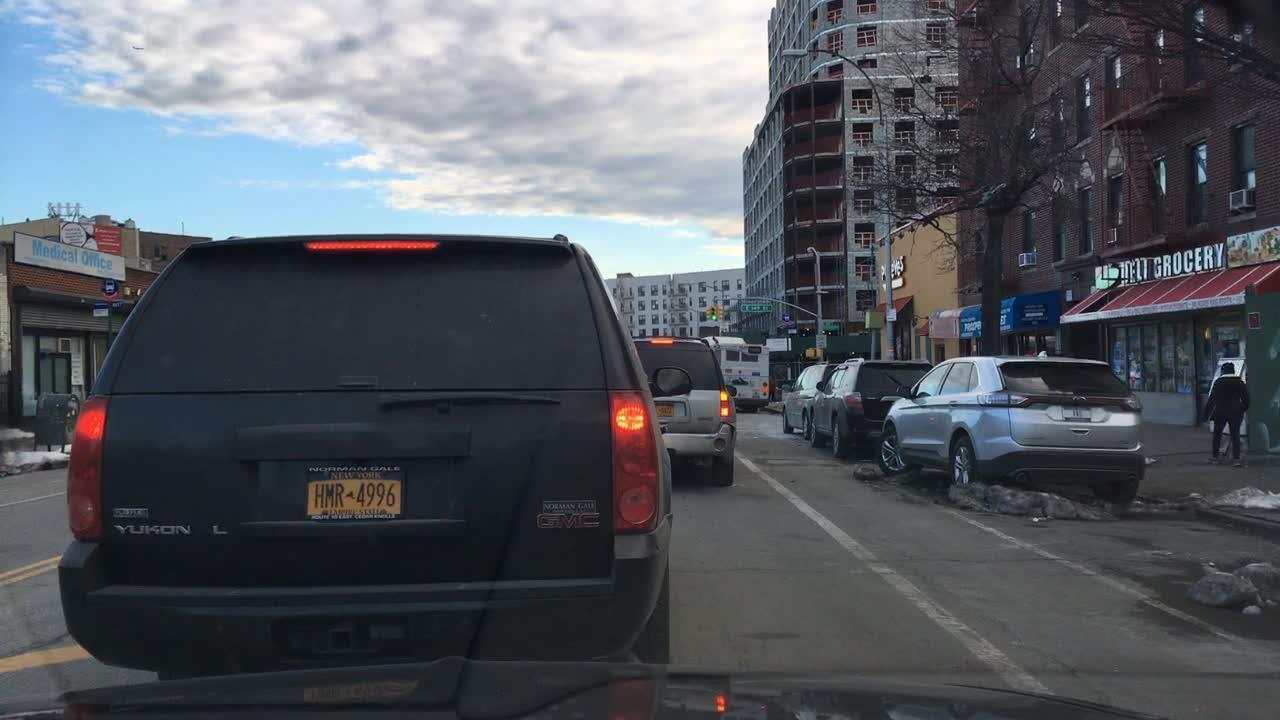GMC: (528, 510, 619, 539)
